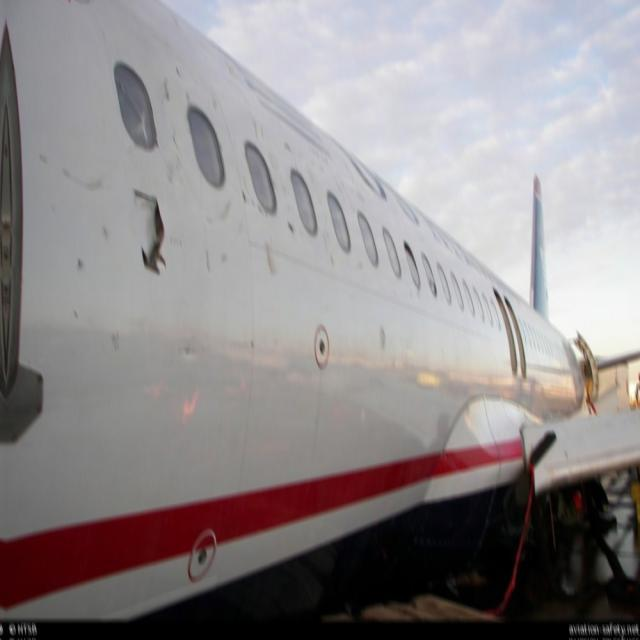Crack: (128, 182, 172, 282)
